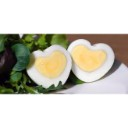begg: (69, 40, 115, 82), (32, 51, 67, 81)
